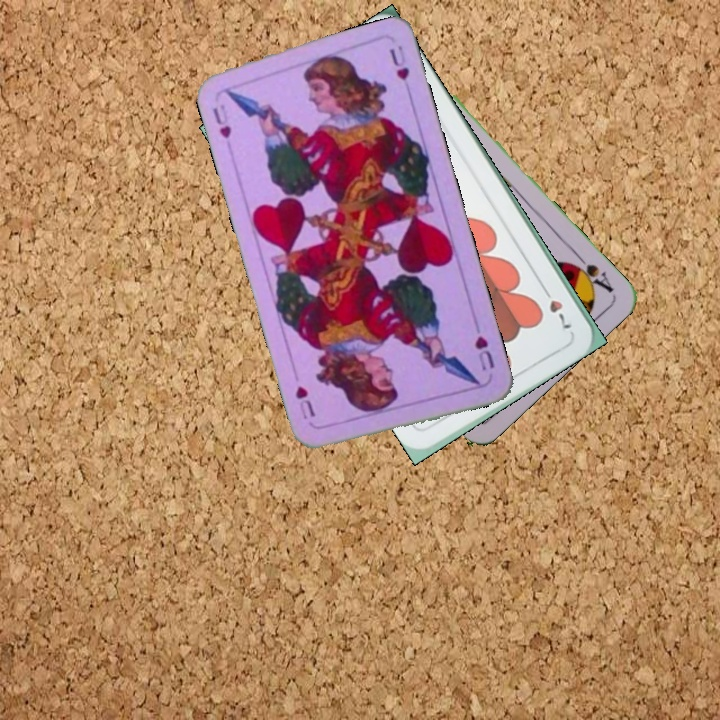H7: (537, 281, 574, 332)
HU: (470, 332, 497, 373), (208, 100, 234, 141)
SA: (564, 248, 616, 296)
